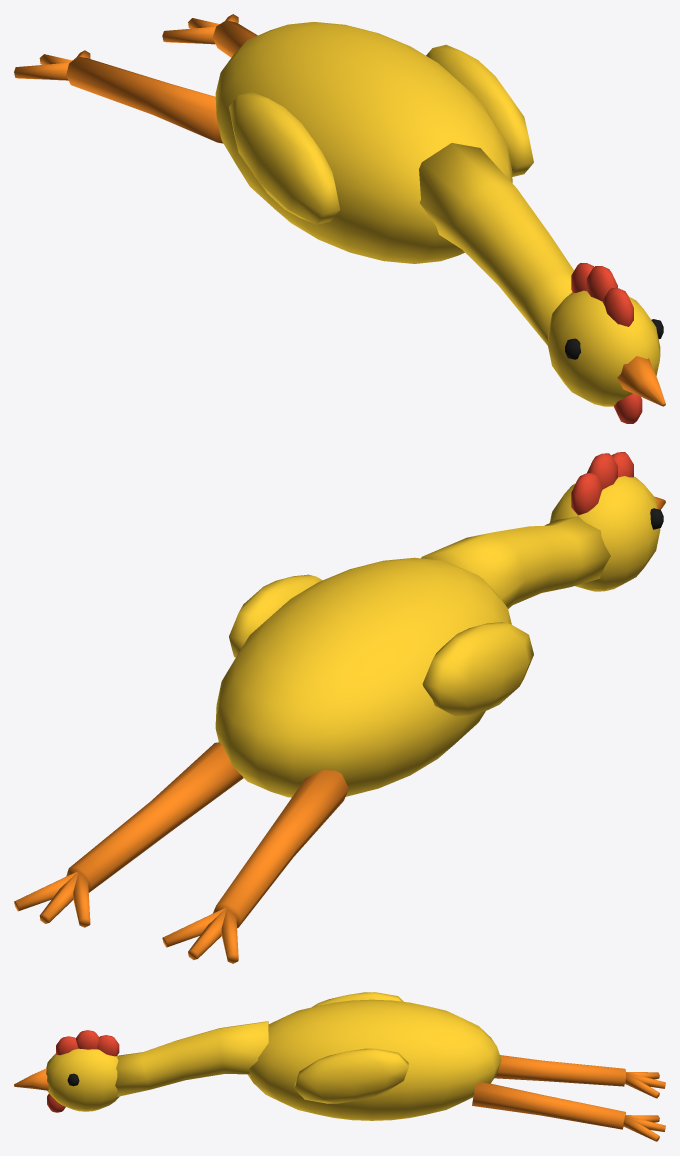
Rendered from toy_rubber_chicken.gltf.
The picture shows the model from 3 angles, top to bottom: view 1: azimuth 30°, elevation 25°; view 2: azimuth 150°, elevation 25°; view 3: azimuth 270°, elevation 25°; orthographic projection. The views are drawn at different scales.
Parts seen in each view (by area): view 1: toy_rubber_chicken; view 2: toy_rubber_chicken; view 3: toy_rubber_chicken.
Boxes of the visible parts, x1=… form: toy_rubber_chicken: x1=14, y1=14, x2=665, y2=423; toy_rubber_chicken: x1=14, y1=452, x2=665, y2=963; toy_rubber_chicken: x1=14, y1=992, x2=665, y2=1141.
Size of the model in its own units: 0.2108 by 0.1445 by 0.8131.
